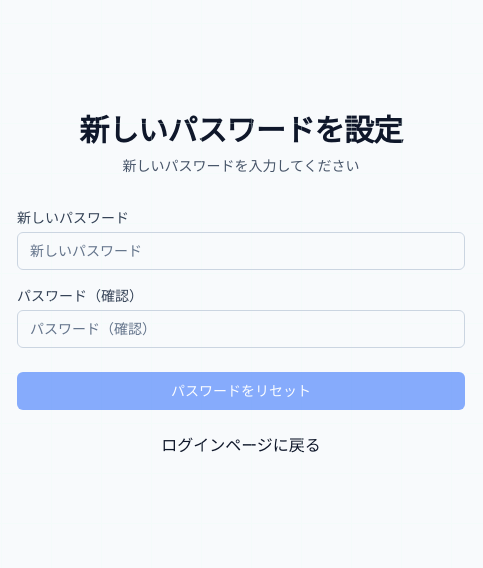
Test case: ResetPasswordPage › password submission › submits password and shows success
The image size is (483, 568).
Expected: the heading "新しいパスワードを設定" is shown, top-left (79, 111), bottom-right (403, 149)
Type "Password123" into the password field with placeholder "新しいパスワード" at {"x": 241, "y": 251}, box top-left (17, 232), bottom-right (465, 270)
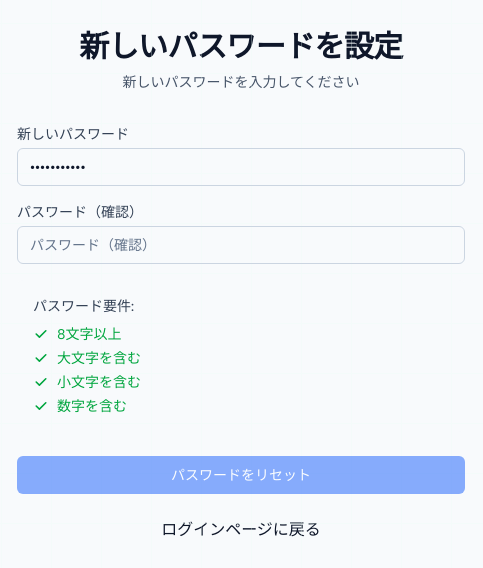
Type "Password123" into the password field with placeholder "パスワード（確認）" at {"x": 241, "y": 245}, box top-left (17, 226), bottom-right (465, 264)
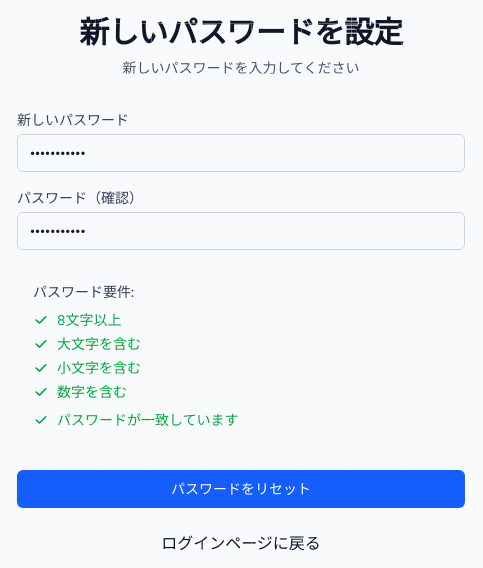
Click the button "パスワードをリセット" at {"x": 241, "y": 489}, box top-left (17, 470), bottom-right (465, 508)
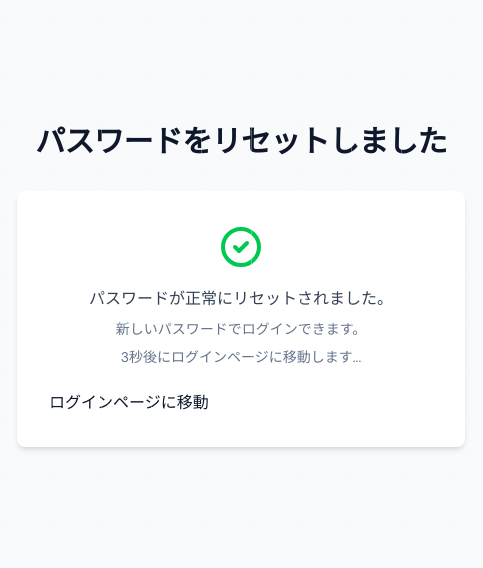
Result: the heading "パスワードをリセットしました" is shown at top-left (17, 123), bottom-right (465, 159)
